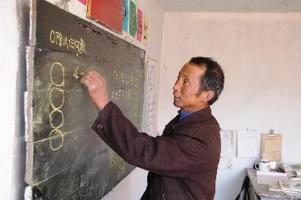person: (80, 58, 226, 200)
